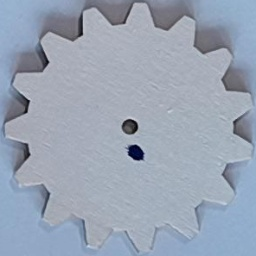Points: (124, 143, 148, 163)
